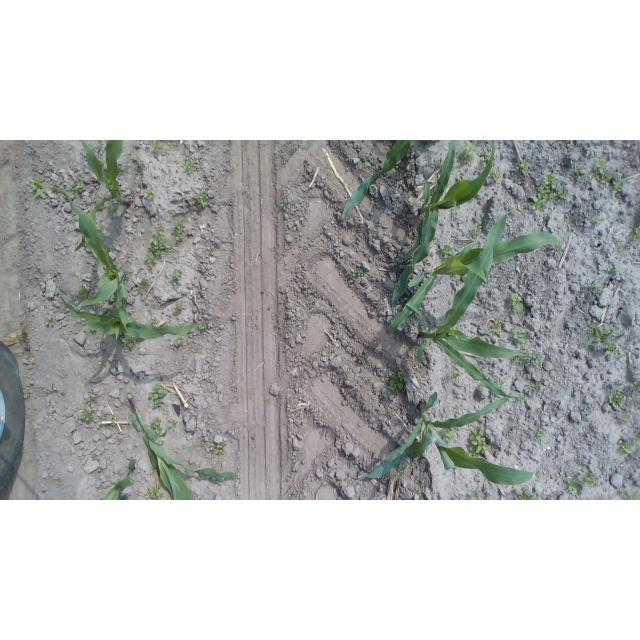Maize: (416, 209, 526, 399), (389, 140, 495, 312), (384, 232, 560, 331), (364, 390, 535, 486), (32, 186, 133, 337), (126, 393, 240, 500), (56, 290, 199, 341), (73, 140, 131, 253), (336, 141, 412, 220), (99, 457, 137, 500), (419, 483, 430, 500)
Weeds: (528, 174, 570, 213), (580, 321, 620, 355), (144, 223, 172, 269), (591, 159, 621, 192), (468, 427, 492, 461), (566, 470, 598, 491), (456, 140, 481, 165), (147, 381, 169, 409), (516, 348, 545, 369), (388, 367, 409, 395), (79, 407, 103, 429), (607, 391, 636, 409), (148, 417, 168, 437), (506, 293, 523, 314), (513, 326, 532, 344), (515, 487, 539, 500), (136, 276, 153, 293), (192, 195, 209, 212), (587, 281, 605, 297), (143, 484, 161, 500), (120, 336, 139, 349), (173, 219, 184, 241), (515, 159, 531, 174), (348, 267, 365, 281), (440, 243, 453, 261), (619, 488, 640, 499), (442, 427, 456, 443), (490, 166, 504, 181), (70, 179, 85, 193), (447, 370, 463, 383), (79, 283, 92, 299), (152, 141, 168, 154), (172, 269, 184, 286), (493, 316, 503, 336), (183, 159, 197, 173), (619, 439, 633, 453), (31, 178, 44, 193), (211, 442, 226, 454), (172, 301, 185, 314), (108, 412, 120, 426), (469, 488, 483, 500), (607, 265, 621, 276), (632, 225, 640, 244), (481, 152, 491, 167), (619, 412, 631, 424), (143, 188, 154, 201), (279, 198, 289, 212), (45, 317, 56, 328), (135, 155, 145, 167), (495, 381, 505, 392), (167, 419, 177, 430), (396, 466, 406, 477), (536, 430, 546, 440), (149, 317, 159, 327), (95, 221, 105, 231), (519, 394, 530, 403), (372, 202, 383, 211), (475, 219, 482, 233), (532, 385, 540, 397), (48, 384, 60, 392), (633, 428, 640, 441), (176, 334, 184, 344), (200, 320, 208, 330), (48, 179, 56, 189), (632, 380, 640, 389), (557, 242, 563, 253), (358, 356, 366, 364), (124, 270, 133, 277), (578, 165, 585, 174), (87, 395, 93, 405), (374, 391, 382, 398), (618, 247, 625, 255), (621, 351, 628, 359), (24, 390, 31, 398), (393, 186, 400, 193), (577, 299, 583, 307), (476, 190, 481, 197), (546, 350, 553, 355), (376, 169, 380, 177), (596, 219, 601, 225), (97, 468, 103, 473), (96, 140, 101, 146), (292, 488, 297, 493), (408, 150, 411, 158), (117, 164, 121, 169), (349, 462, 353, 467)
